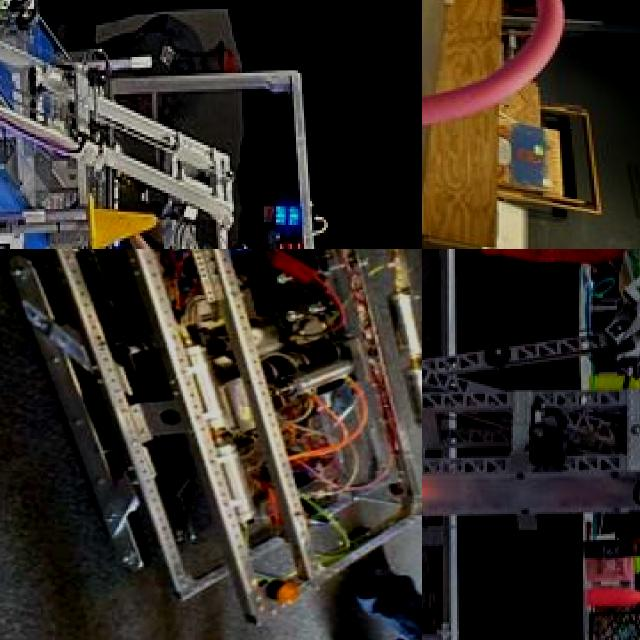FRC-Robots: (0, 249, 422, 640), (422, 249, 640, 640), (0, 0, 265, 249), (422, 0, 637, 249)
